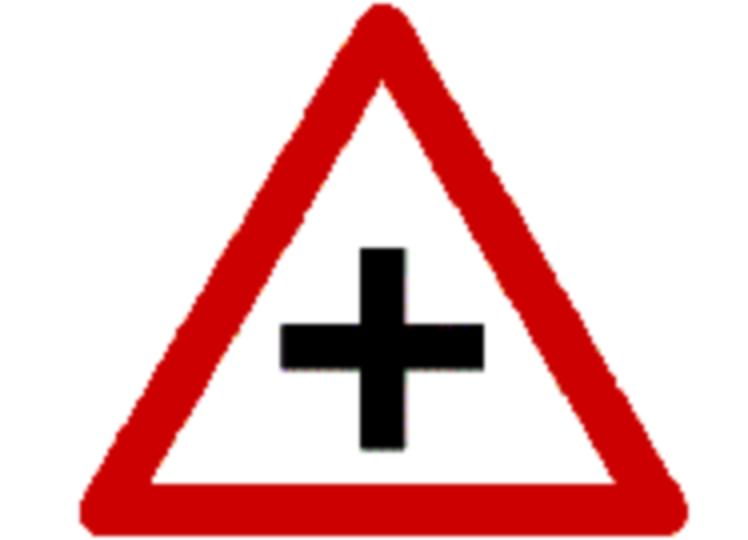fork_road: (74, 2, 703, 539)
